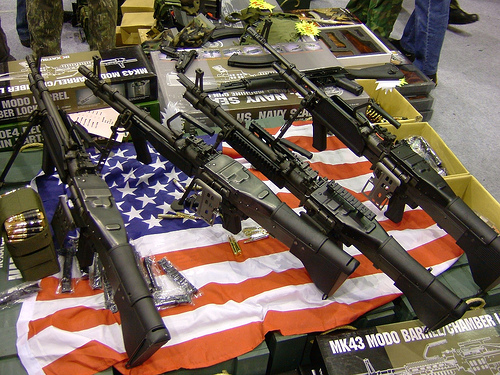rifle: (240, 12, 435, 189), (14, 50, 79, 232)
